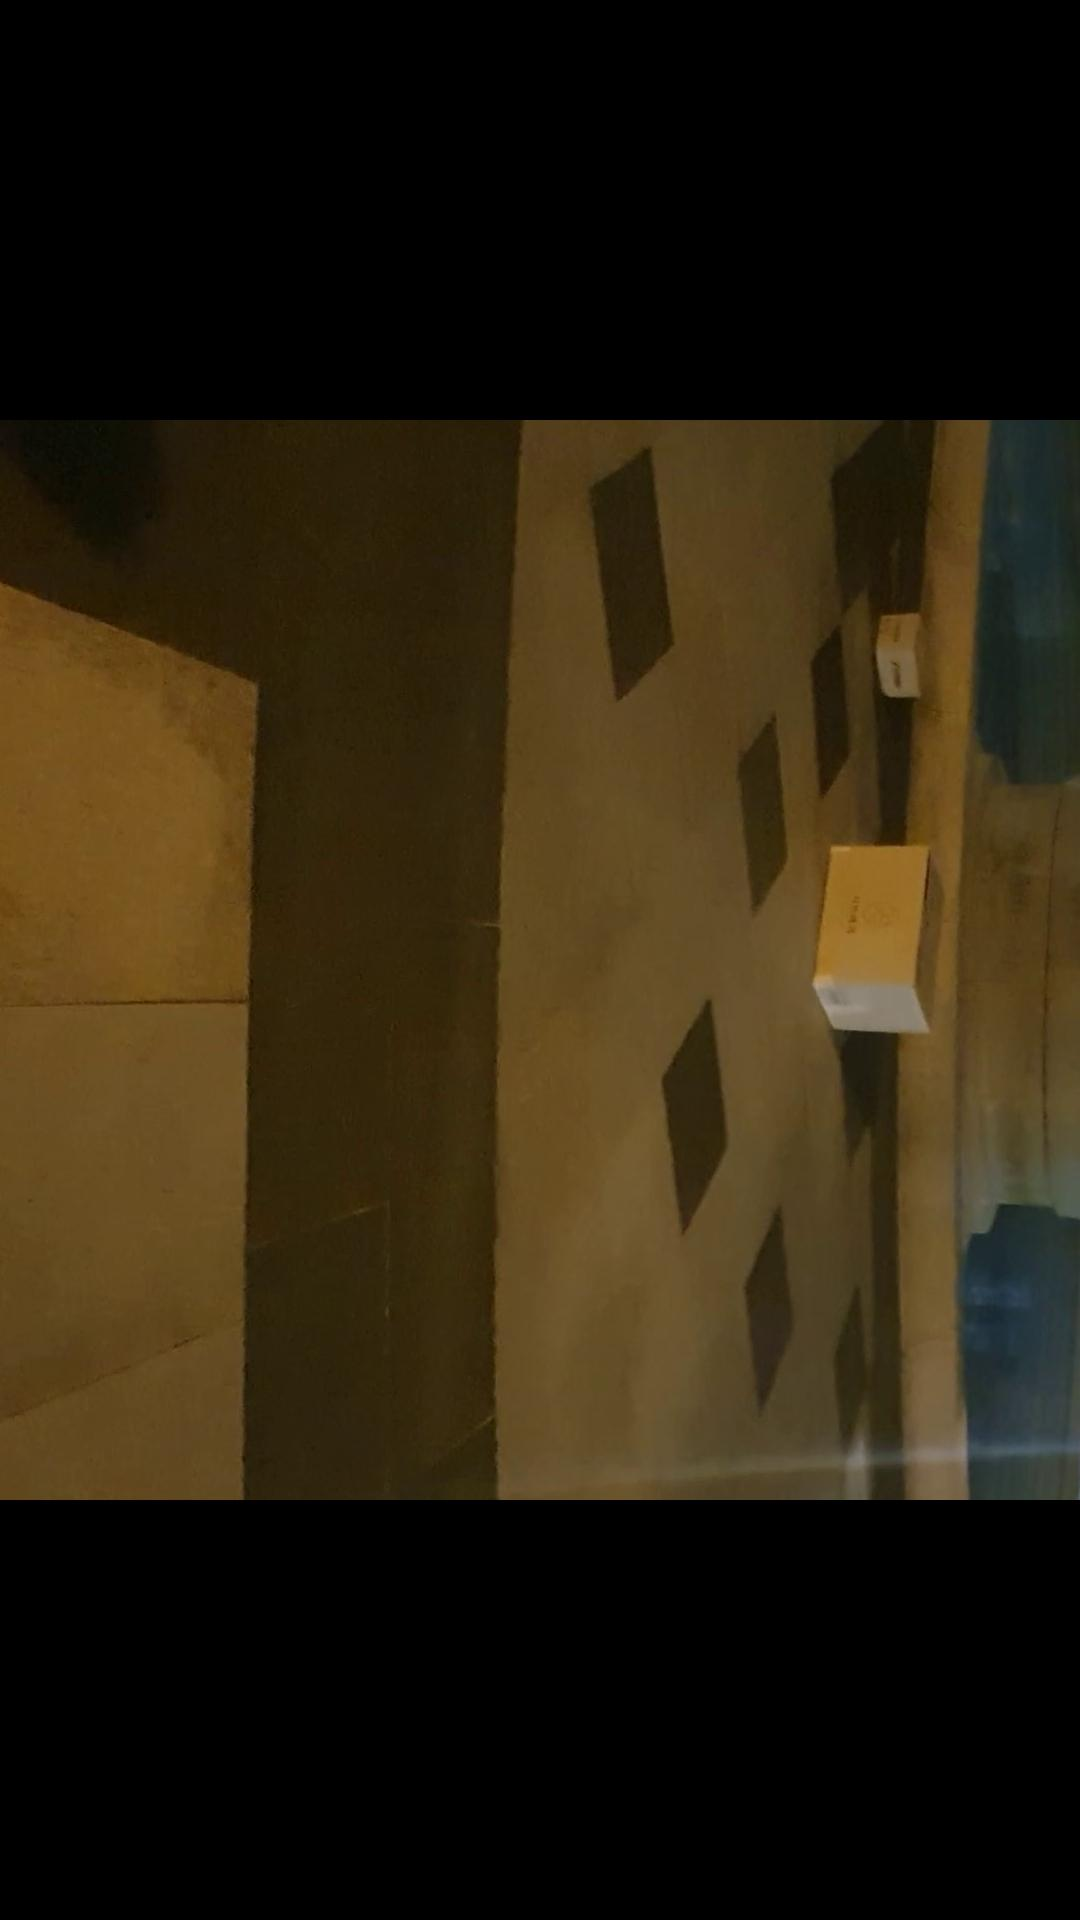Box: (804, 831, 952, 1035), (866, 601, 942, 700)
